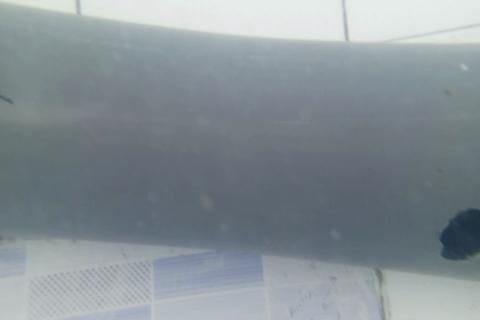kebocoran: (437, 204, 480, 263)
keretakan: (0, 92, 17, 108)
